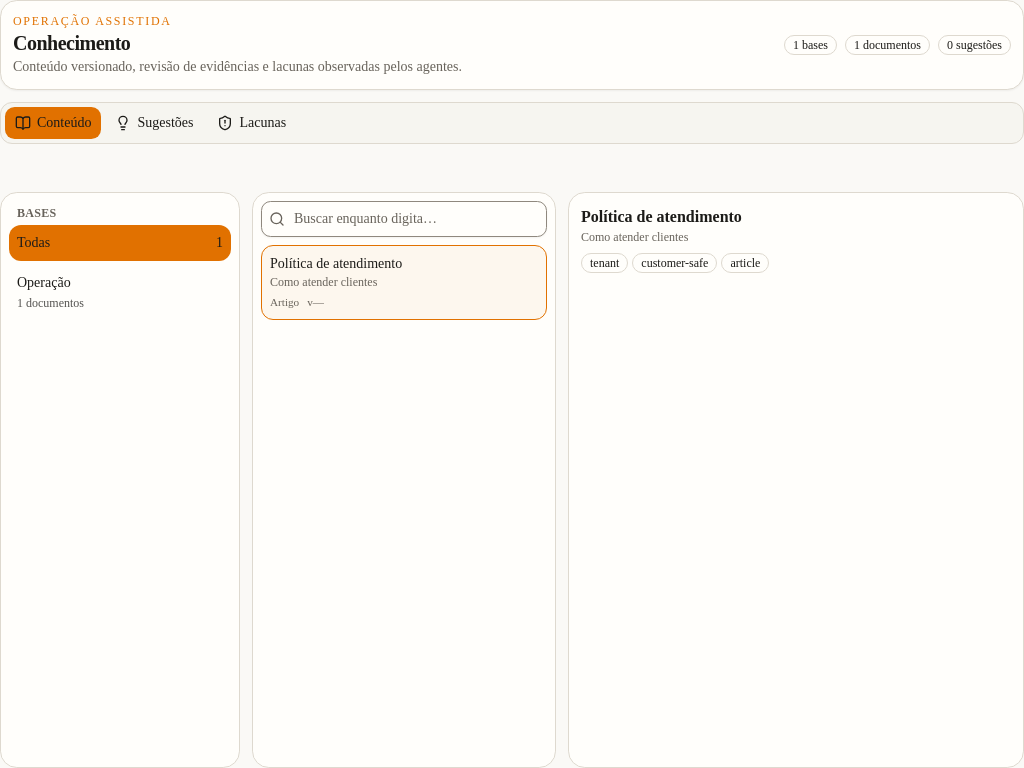
KnowledgeManagement › filters documents as the operator types without a filter button
The width and height of the screenshot is (1024, 768).
Expected: the text "Política de atendimento" is shown, [270,254,402,274]
Type "inexistente" into the field named "Buscar documentos" at (404, 219), box [261,201,547,237]
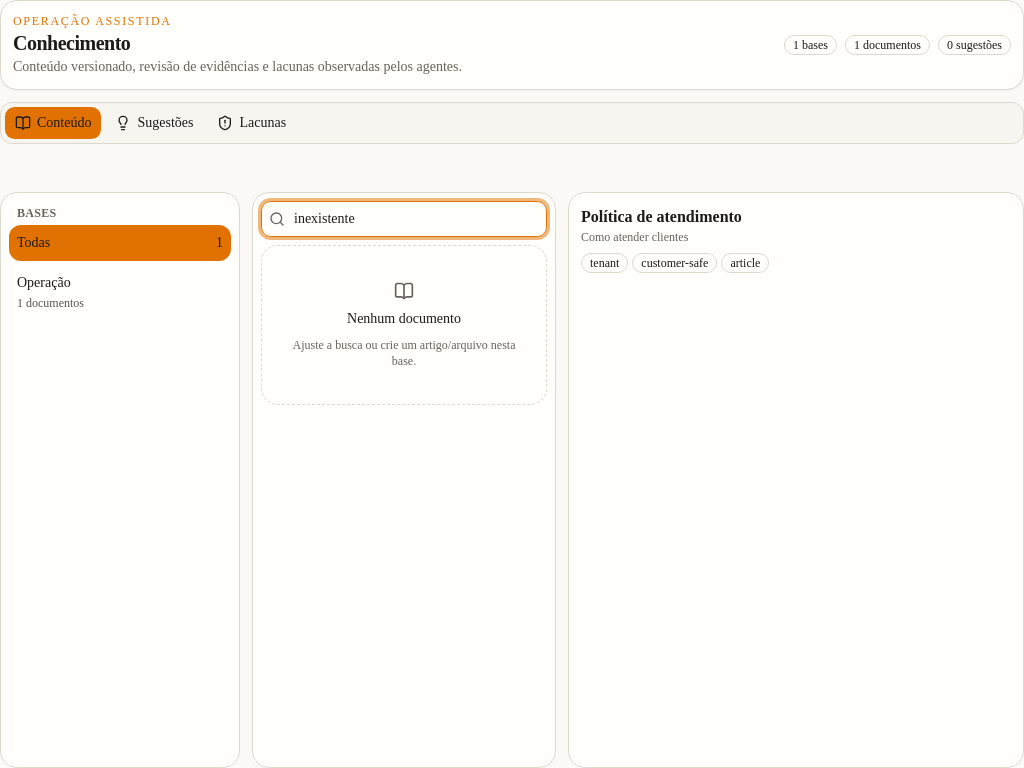
Expected: the text "Nenhum documento" is shown, [347,309,461,329]
